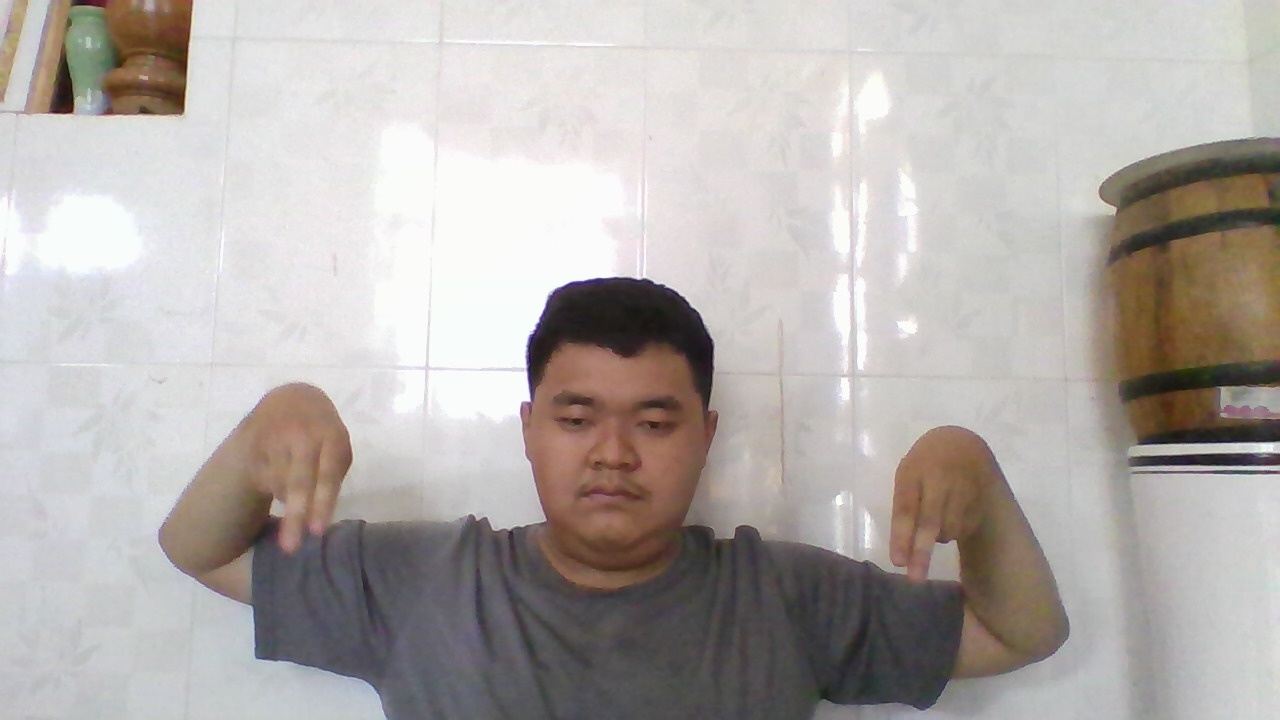N: (240, 380, 356, 560), (881, 421, 997, 592)
